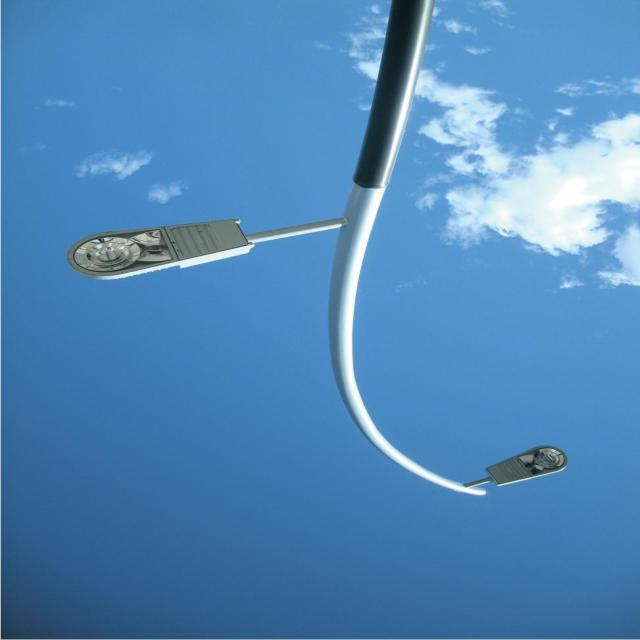off: (28, 198, 306, 320), (420, 415, 600, 530)
